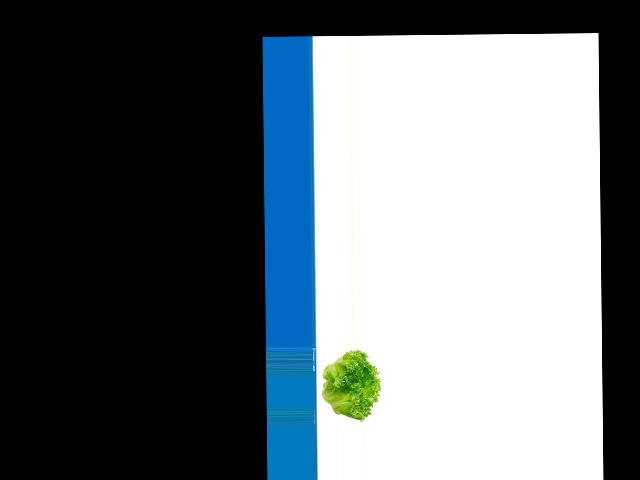lettuce: (317, 349, 383, 419)
